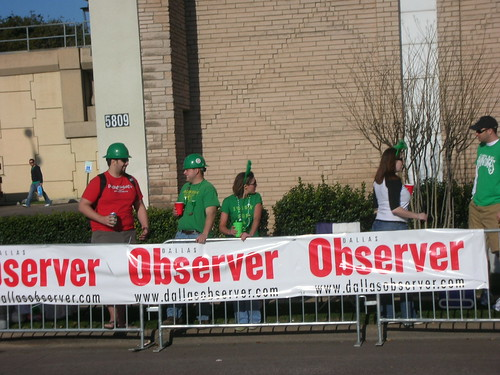person hardhat: (82, 142, 155, 333), (171, 150, 220, 317)
